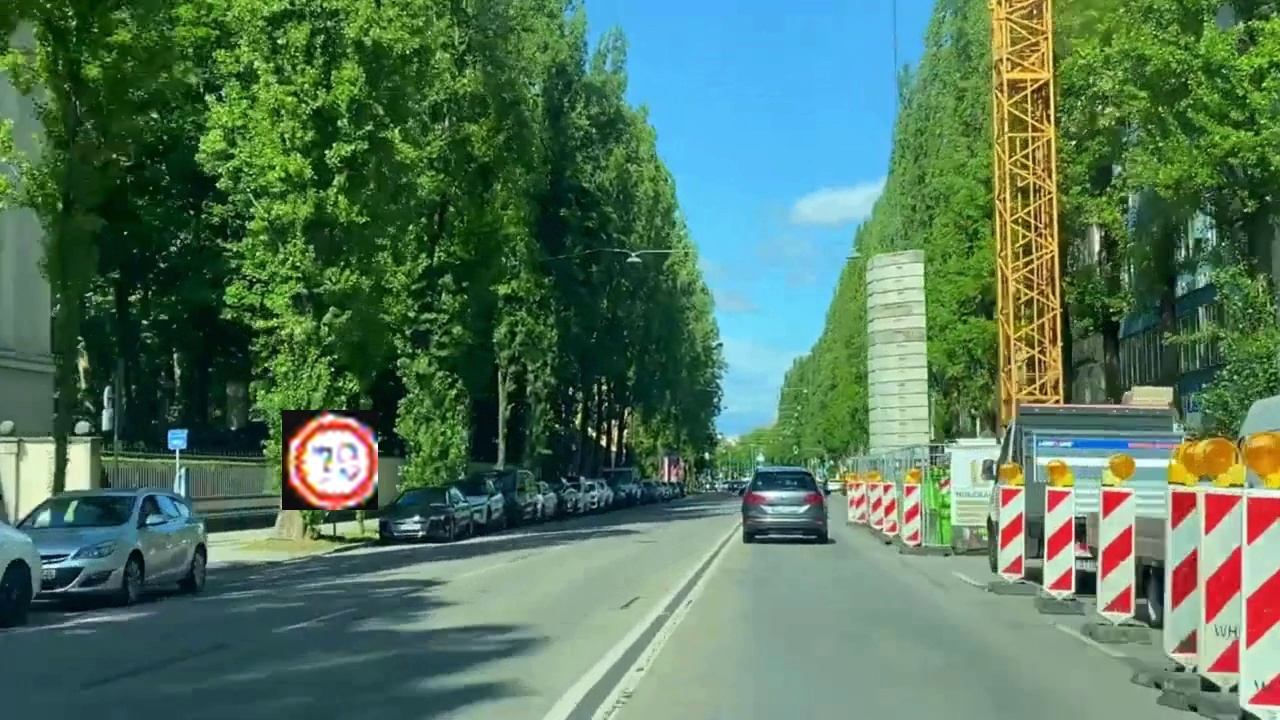Speed 70: (282, 410, 378, 510)
